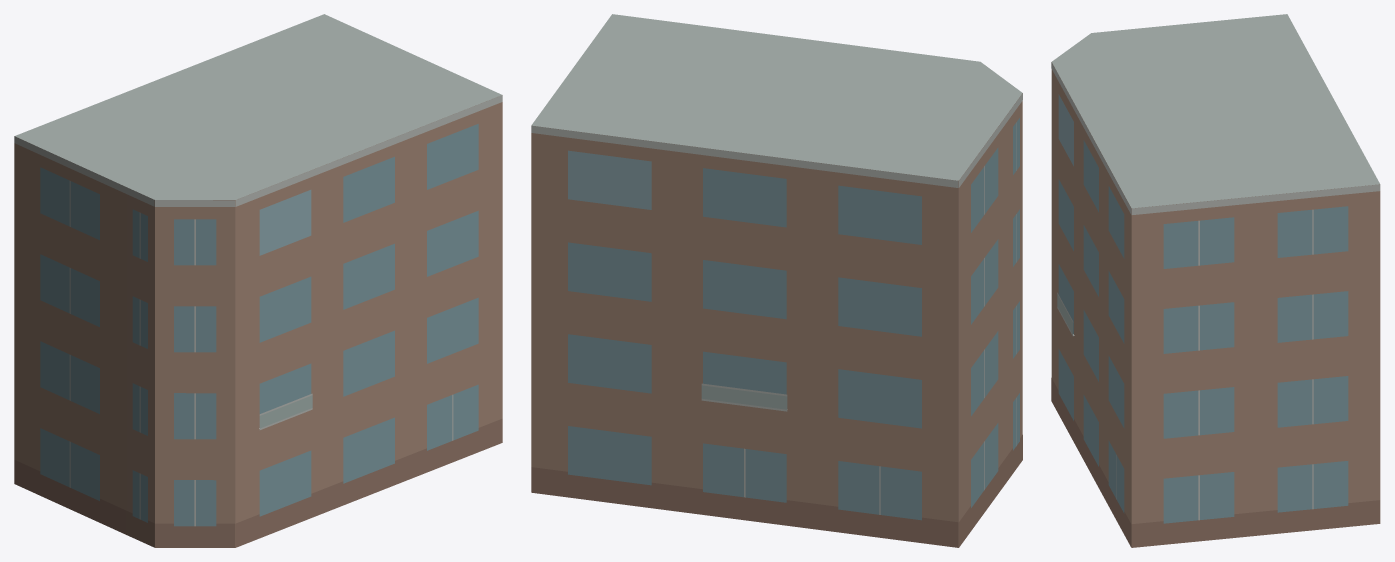
The model's file is residential-977ebf1a-1b87-494f-b83b-f58f8dc3c3cf.glb.
3 views of the same model, side by side, from view 1: azimuth 30°, elevation 25°; view 2: azimuth 150°, elevation 25°; view 3: azimuth 270°, elevation 25° (orthographic). The views are drawn at different scales.
Visible parts, largest first — view 1: residential-977ebf1a-1b87-494f-b83b-f58f8dc3c3cf.tmp; view 2: residential-977ebf1a-1b87-494f-b83b-f58f8dc3c3cf.tmp; view 3: residential-977ebf1a-1b87-494f-b83b-f58f8dc3c3cf.tmp.
Boxes of the visible parts, x1,y1,x2,y2 form: residential-977ebf1a-1b87-494f-b83b-f58f8dc3c3cf.tmp: (14,14,502,547); residential-977ebf1a-1b87-494f-b83b-f58f8dc3c3cf.tmp: (531,14,1022,547); residential-977ebf1a-1b87-494f-b83b-f58f8dc3c3cf.tmp: (1051,14,1380,547).
Size of the model in its own units: 15 by 12.2 by 10.72.
